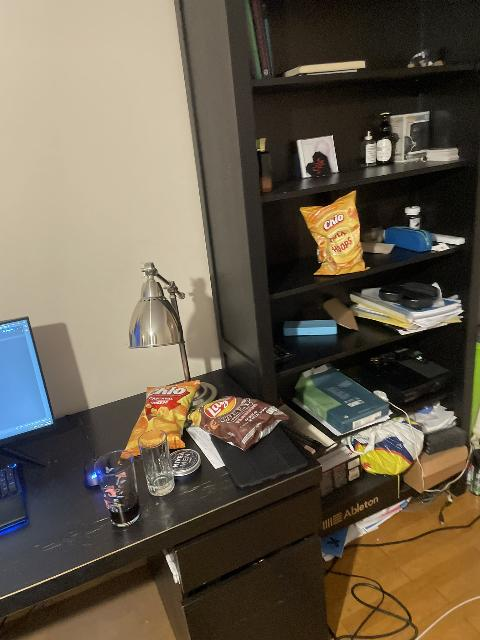Chio Cascaval 125g: (125, 380, 204, 457)
Chio Hula Hoops Cheese 70g: (300, 191, 358, 277)
Lays Beef Grilled Ribs 125g: (195, 392, 292, 450)
